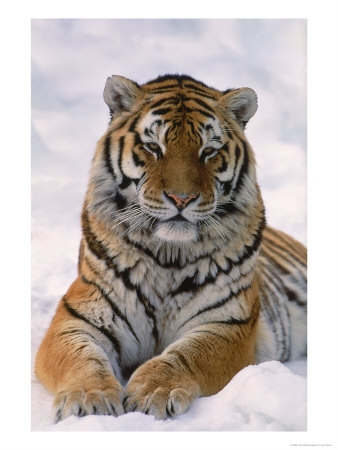Tigre: (84, 65, 278, 318)
